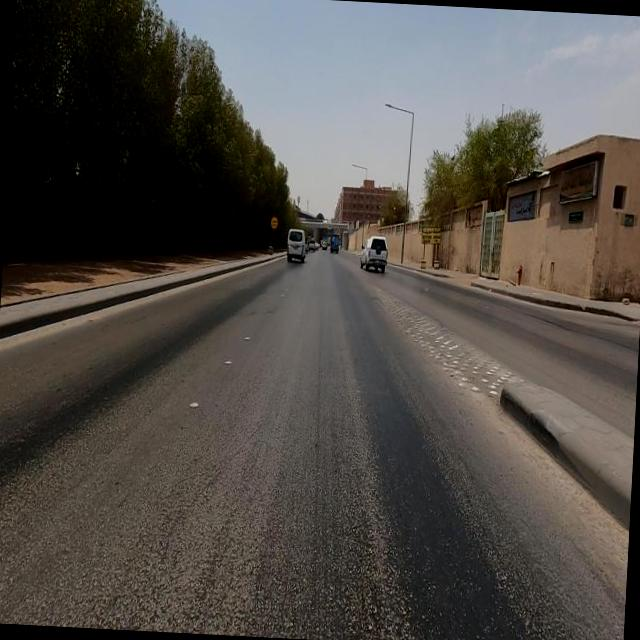debris: (402, 205, 456, 272)
